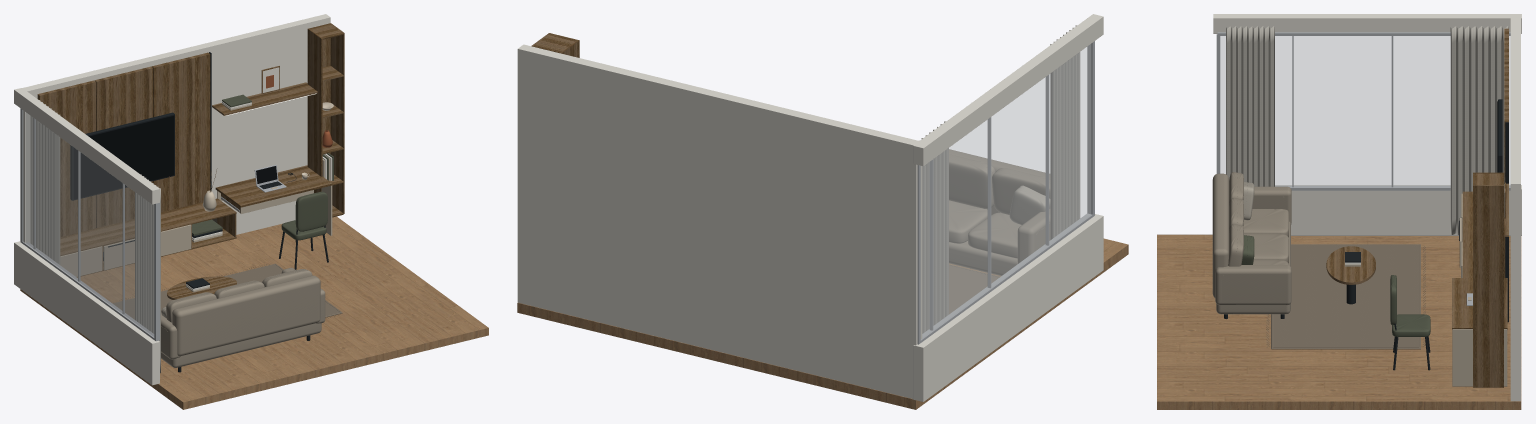
Rendered from sala.glb.
3 views of the same model, side by side, from view 1: azimuth 30°, elevation 25°; view 2: azimuth 150°, elevation 25°; view 3: azimuth 270°, elevation 25° (orthographic). The views are drawn at different scales.
Parts seen in each view (by area): view 1: Piso, Parede principal, Janela • vidro, Sofá • encosto, Painel de carvalho.002, Parede esquerda inferior, TV • tela, Painel de carvalho.001, Painel de carvalho, Cortina recolhida fundo, Parede esquerda superior, Cortina recolhida frente (+23 smaller); view 2: Parede principal, Janela • vidro, Parede esquerda inferior, Piso, Parede esquerda superior, Cortina recolhida frente, Cortina recolhida fundo, Sofá • almofada do encosto.001, Sofá • almofada do assento, Sofá • almofada do encosto, Janela • travessa, Janela • montante (+10 smaller); view 3: Piso, Janela • vidro, Tapete, Cortina recolhida fundo, Parede esquerda inferior, Cortina recolhida frente, Estante • lateral.001, Parede esquerda superior, Parede principal, Sofá • braço.001, Sofá • encosto, Bancada • lateral apoio (+22 smaller).
Part boxes in pixels (x1,y1,x2,y2): Piso: (20,216,488,409); Parede principal: (20,14,330,243); Janela • vidro: (25,112,153,336); Sofá • encosto: (172,275,320,356); Painel de carvalho.002: (151,52,210,212); Parede esquerda inferior: (14,241,159,385); TV • tela: (73,115,174,199); Painel de carvalho.001: (94,66,153,227); Painel de carvalho: (37,80,95,236); Cortina recolhida fundo: (30,97,60,264); Parede esquerda superior: (14,88,159,204); Cortina recolhida frente: (135,174,160,373); Parede principal: (517,44,922,398); Janela • vidro: (922,44,1091,337); Parede esquerda inferior: (913,214,1103,401); Piso: (517,238,1128,409); Parede esquerda superior: (913,14,1103,166); Cortina recolhida frente: (1050,25,1080,239); Cortina recolhida fundo: (919,121,948,333); Sofá • almofada do encosto.001: (949,154,995,208); Sofá • almofada do assento: (968,212,1021,258); Sofá • almofada do encosto: (992,168,1050,214); Janela • travessa: (919,213,1094,343); Janela • montante: (1087,41,1094,215); Piso: (1157,234,1521,409); Janela • vidro: (1220,36,1510,185); Tapete: (1271,244,1420,349); Cortina recolhida fundo: (1450,26,1508,235); Parede esquerda inferior: (1275,185,1521,235); Cortina recolhida frente: (1226,26,1274,186); Estante • lateral.001: (1473,185,1503,387); Parede esquerda superior: (1213,14,1521,33); Parede principal: (1510,18,1520,401); Sofá • braço.001: (1215,265,1291,305); Sofá • encosto: (1212,173,1228,297); Bancada • lateral apoio: (1452,329,1507,386).
Size of the model in its own units: 4.69 by 2.91 by 4.25.
Materials: 18 (7 with a texture image).
